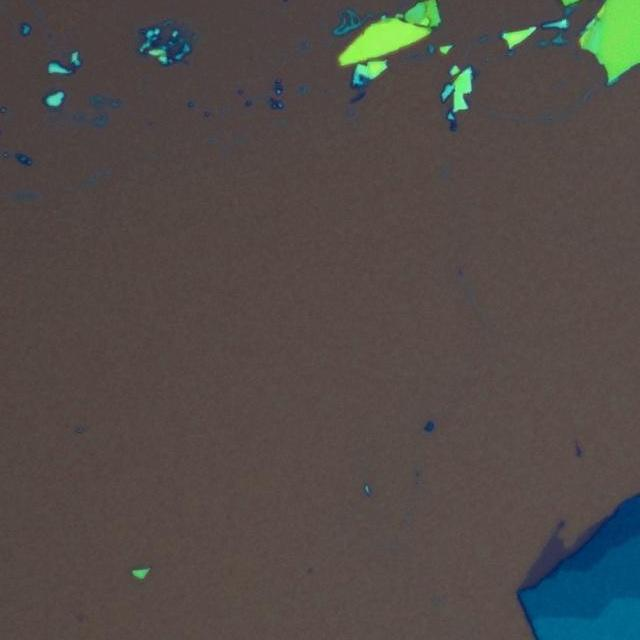monolayer-eWW4: (518, 520, 608, 590)
